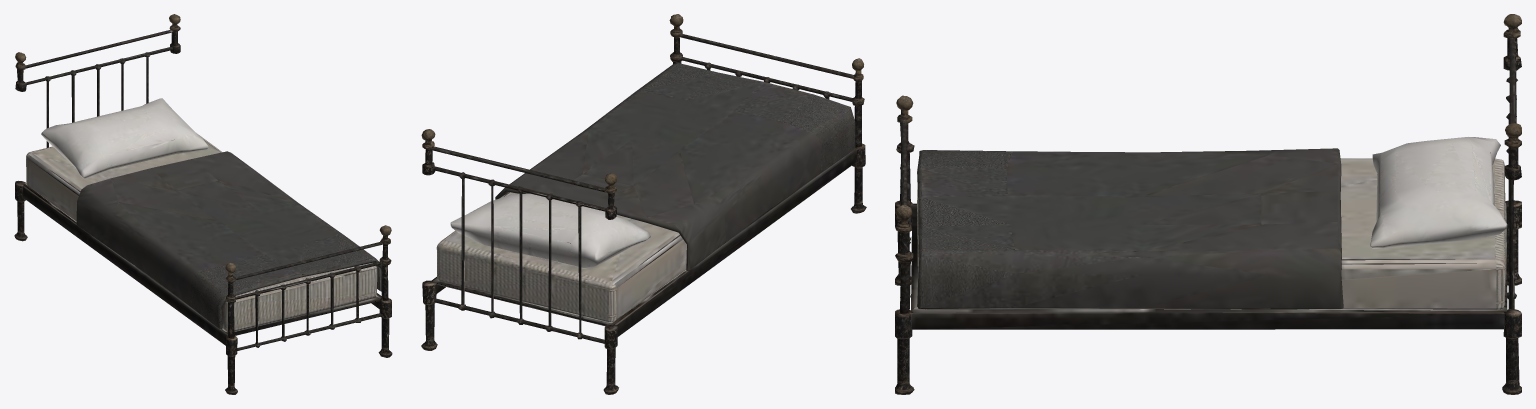
Rendered from iron_bed.glb.
3 views of the same model, side by side, from view 1: azimuth 30°, elevation 25°; view 2: azimuth 150°, elevation 25°; view 3: azimuth 270°, elevation 25° (orthographic). The views are drawn at different scales.
Bounding box in the file's own units: 0.8396 × 0.9 × 1.9.
1 material, 1 textured.
